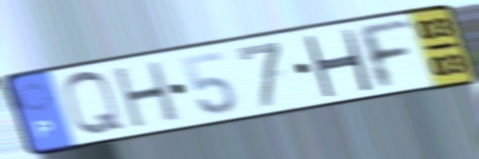5: (178, 48, 239, 117)
7: (234, 39, 284, 109)
F: (350, 17, 417, 92)
H: (112, 57, 183, 132), (300, 28, 376, 98)
Q: (59, 69, 130, 139)
